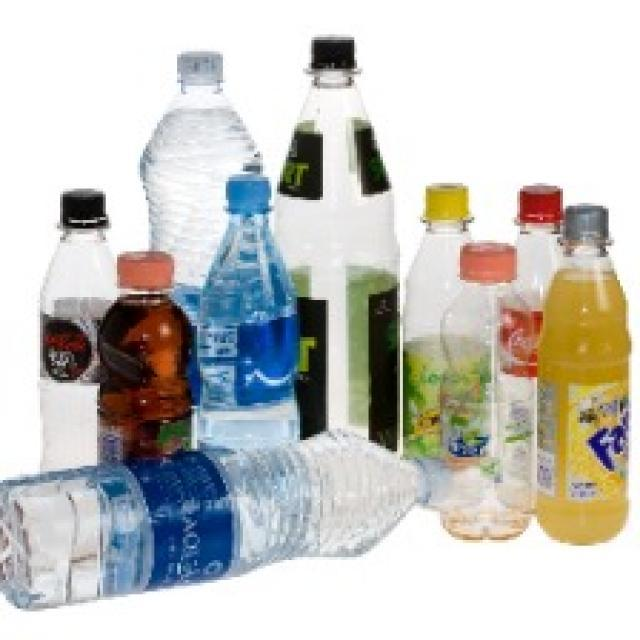heap: (14, 28, 628, 581)
plastic_bottle: (1, 439, 443, 594), (270, 48, 412, 438), (514, 206, 640, 545), (35, 183, 110, 468), (143, 40, 233, 259)
